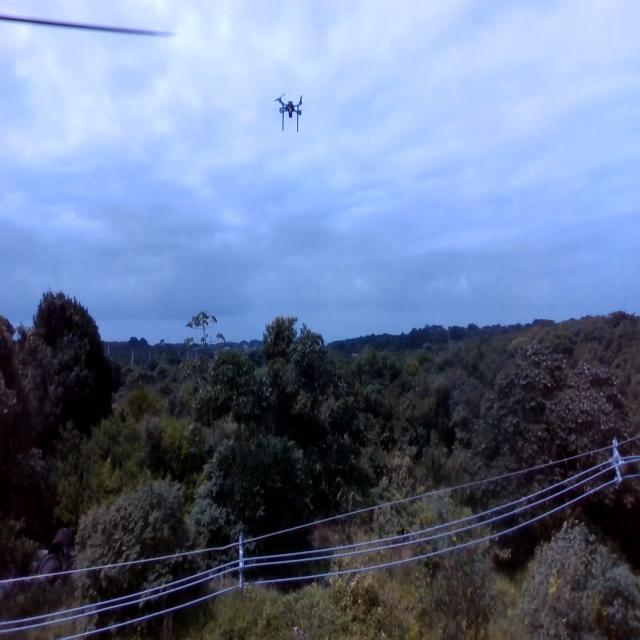-uav-: (273, 78, 309, 140)
